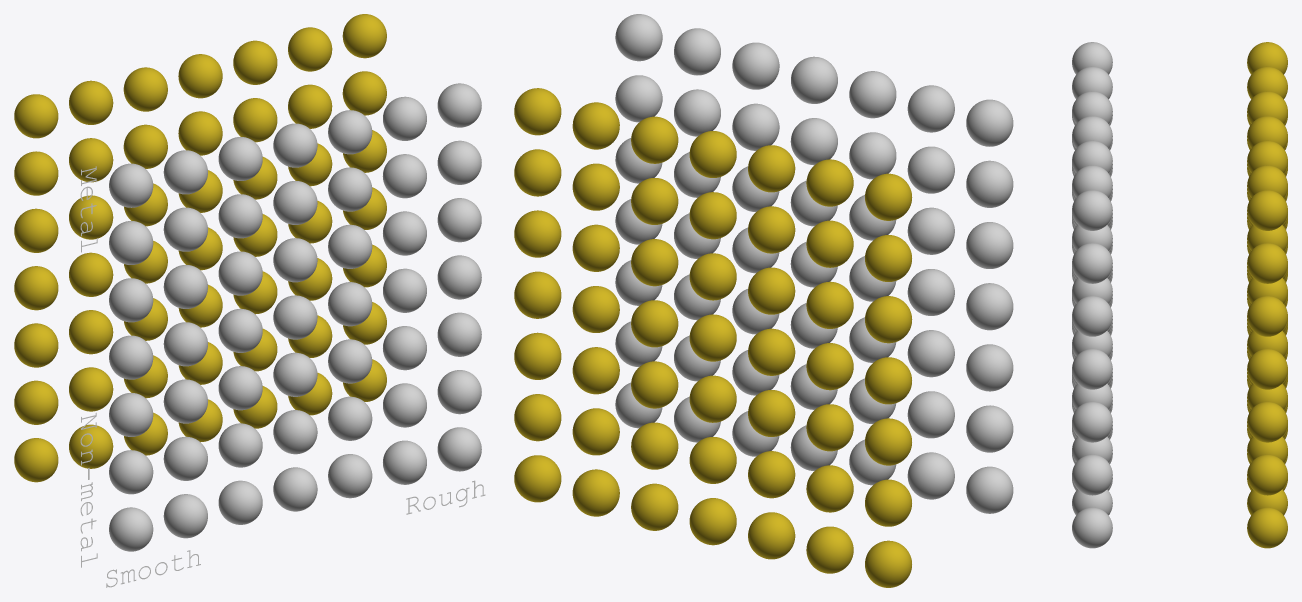
The model's file is surfaces-material.glb.
3 renders of one model, left to right at view 1: azimuth 30°, elevation 25°; view 2: azimuth 150°, elevation 25°; view 3: azimuth 270°, elevation 25°, orthographic. The views are drawn at different scales.
Parts seen in each view (by area): view 1: m0%_r0%, g_m0%_r0%, Metal; view 2: g_m0%_r0%, m0%_r0%; view 3: m0%_r0%, g_m0%_r0%.
Part boxes in pixels (x1,y1,x2,y2): m0%_r0%: [109, 83, 481, 551]; g_m0%_r0%: [14, 14, 386, 482]; Metal: [80, 166, 485, 587]; g_m0%_r0%: [514, 88, 912, 587]; m0%_r0%: [615, 14, 1013, 513]; m0%_r0%: [1072, 42, 1112, 548]; g_m0%_r0%: [1247, 42, 1287, 548].
Size of the model in its own units: 0.0074 by 0.0075 by 0.0037.
